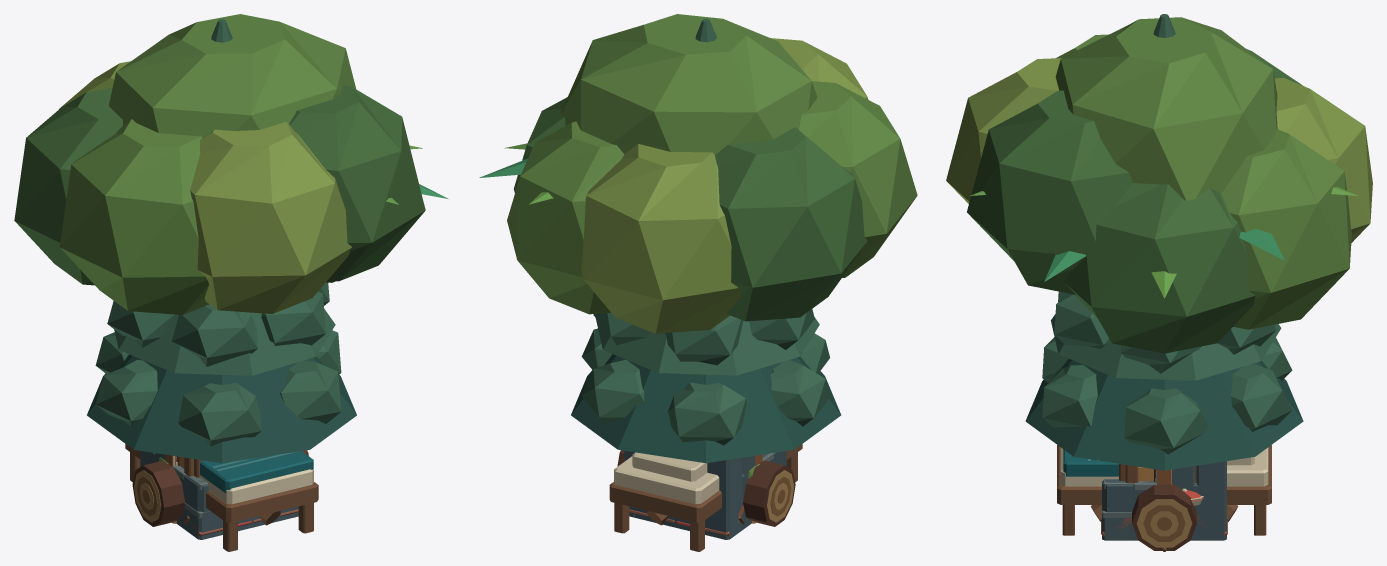
Rendered from explorer-kit.glb.
3 views of the same model, side by side, from view 1: azimuth 30°, elevation 25°; view 2: azimuth 150°, elevation 25°; view 3: azimuth 270°, elevation 25° (orthographic). The views are drawn at different scales.
Visible parts, largest first — view 1: oak, pine, bed, log, stairs, slab; view 2: oak, pine, bed, stairs, log, palm; view 3: oak, pine, bed, stairs, log, slab, palm.
Part boxes in pixels (x1,y1,x2,y2): oak: (14,14,425,525); pine: (87,19,356,463); bed: (125,444,318,551); log: (132,450,308,526); stairs: (140,451,298,539); slab: (141,451,298,536); oak: (507,14,917,525); pine: (571,19,841,463); bed: (609,444,802,551); stairs: (624,450,773,539); log: (617,450,795,526); palm: (479,143,553,204); oak: (946,17,1372,521); pine: (1025,14,1303,470); bed: (1057,445,1271,535); stairs: (1102,461,1226,540); log: (1132,484,1196,550); slab: (1102,479,1221,540); palm: (970,186,1358,298).
Bounding box in the file's own units: 3.55 × 4.4 × 3.42.
